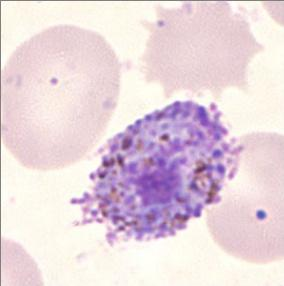Infected: (69, 97, 242, 264)
Uninfected: (0, 24, 123, 173), (134, 0, 264, 101)
